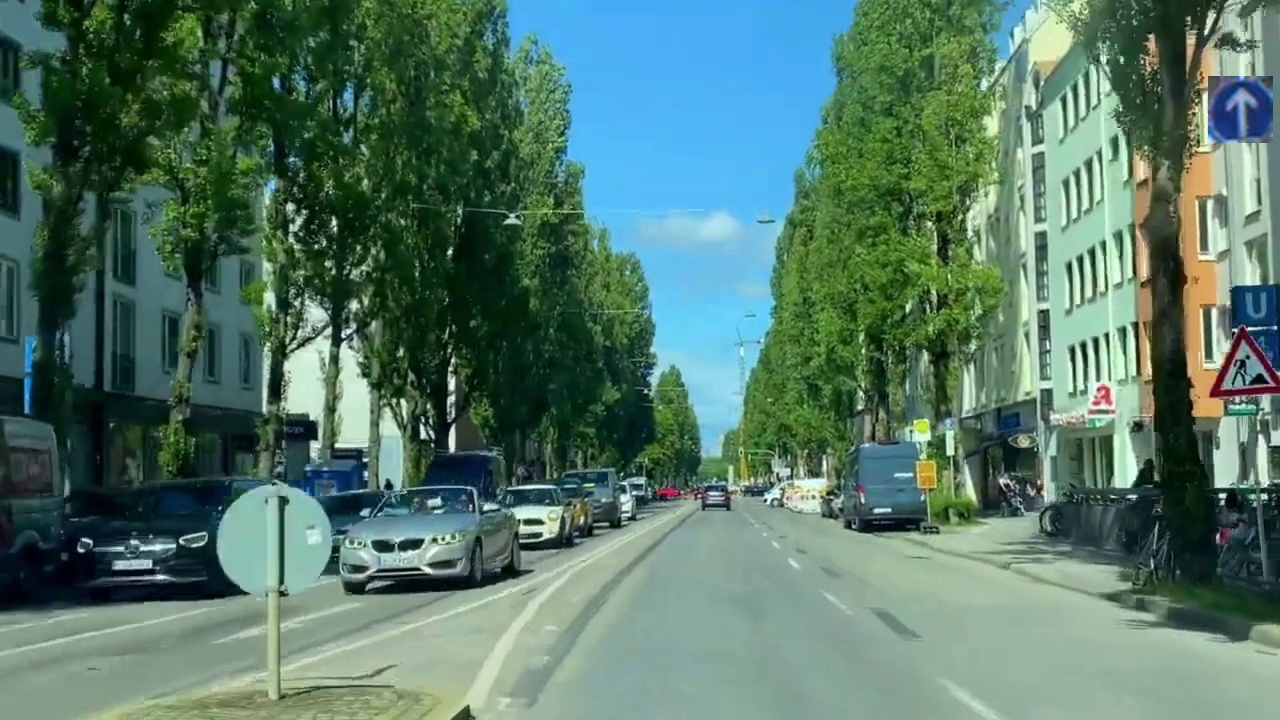Ahead only: (1208, 76, 1273, 143)
